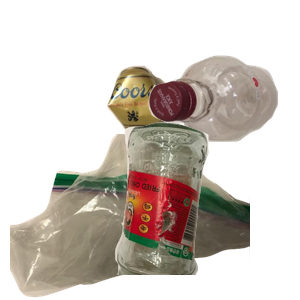glass: (112, 120, 300, 300)
metal: (105, 63, 300, 192)
plastic: (146, 53, 300, 187)
trash: (10, 134, 250, 300)
